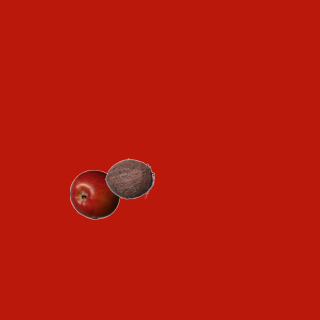Apple Braeburn: (69, 169, 119, 219)
Cocos: (104, 153, 154, 203)
